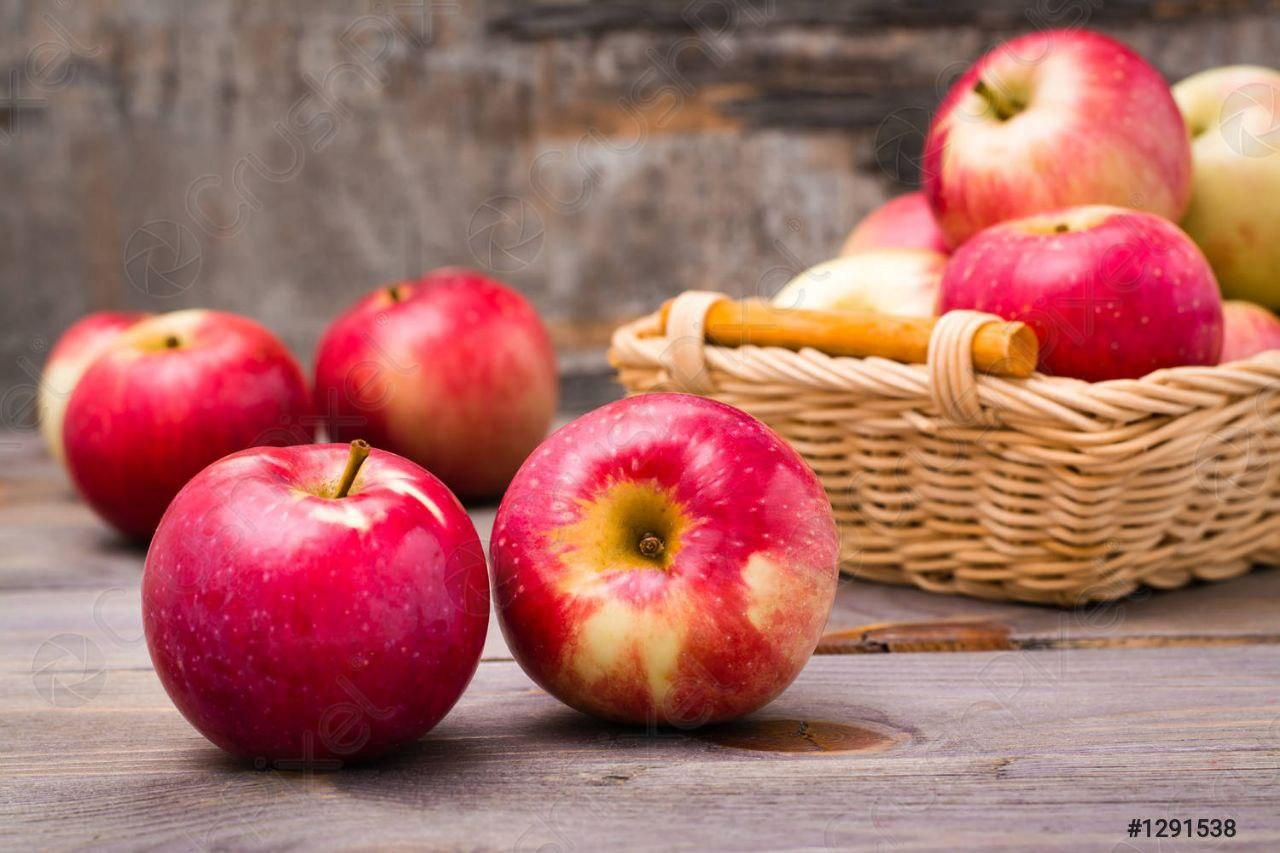Apple: (486, 392, 844, 737), (138, 438, 488, 783)
